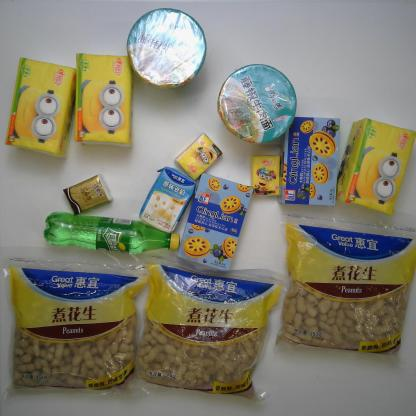Dessert: (175, 172, 254, 273), (276, 116, 343, 209)
Dried Food: (135, 242, 294, 410), (272, 210, 416, 372), (1, 249, 140, 404)
Drink: (46, 202, 176, 259)
Instant Noodles: (126, 9, 208, 91), (218, 62, 298, 145)
Milk: (137, 169, 190, 226)
Tissue: (336, 114, 416, 218), (4, 56, 78, 160), (75, 48, 133, 151), (61, 178, 114, 216), (177, 129, 218, 177), (248, 152, 281, 199)
